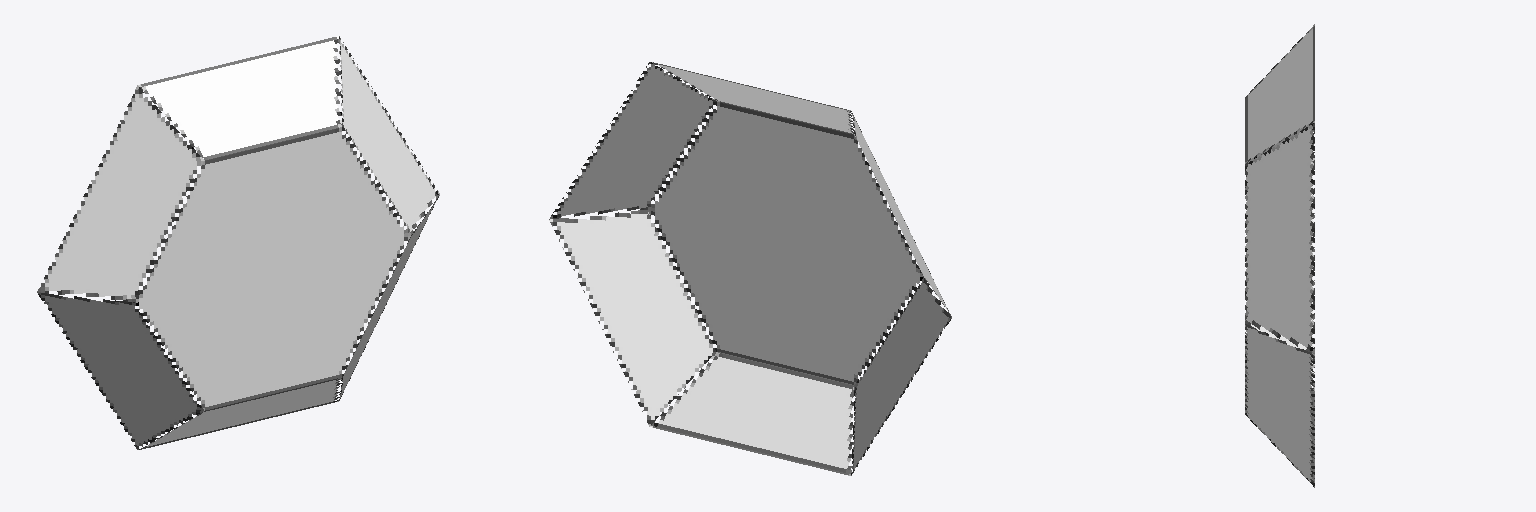
3 renders of one model, left to right at view 1: azimuth 30°, elevation 25°; view 2: azimuth 150°, elevation 25°; view 3: azimuth 270°, elevation 25°, orthographic.
Visible parts, largest first — view 1: hex; view 2: hex; view 3: hex.
Part boxes in pixels (bbox=[...]): hex: bbox=[37, 36, 439, 449]; hex: bbox=[549, 62, 951, 475]; hex: bbox=[1245, 24, 1314, 487].
Bounding box in the file's own units: 2 × 1.73 × 0.3.
1 materials, 1 textured.